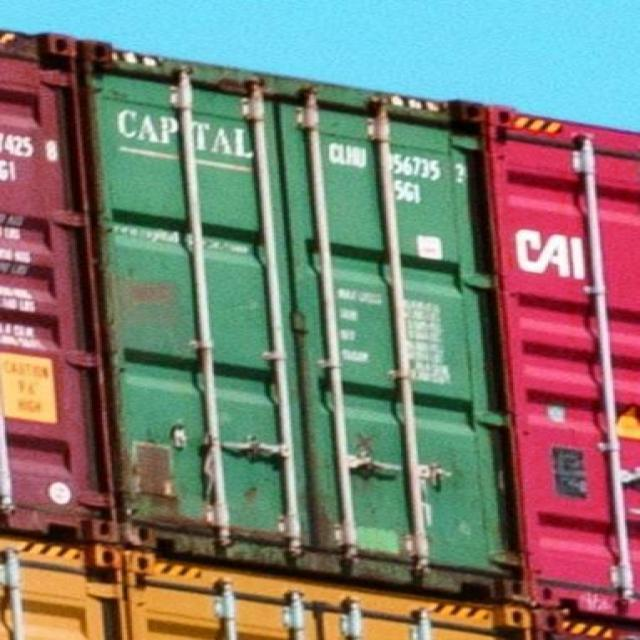ISO: (392, 178, 424, 204)
container_number: (330, 138, 472, 180)
